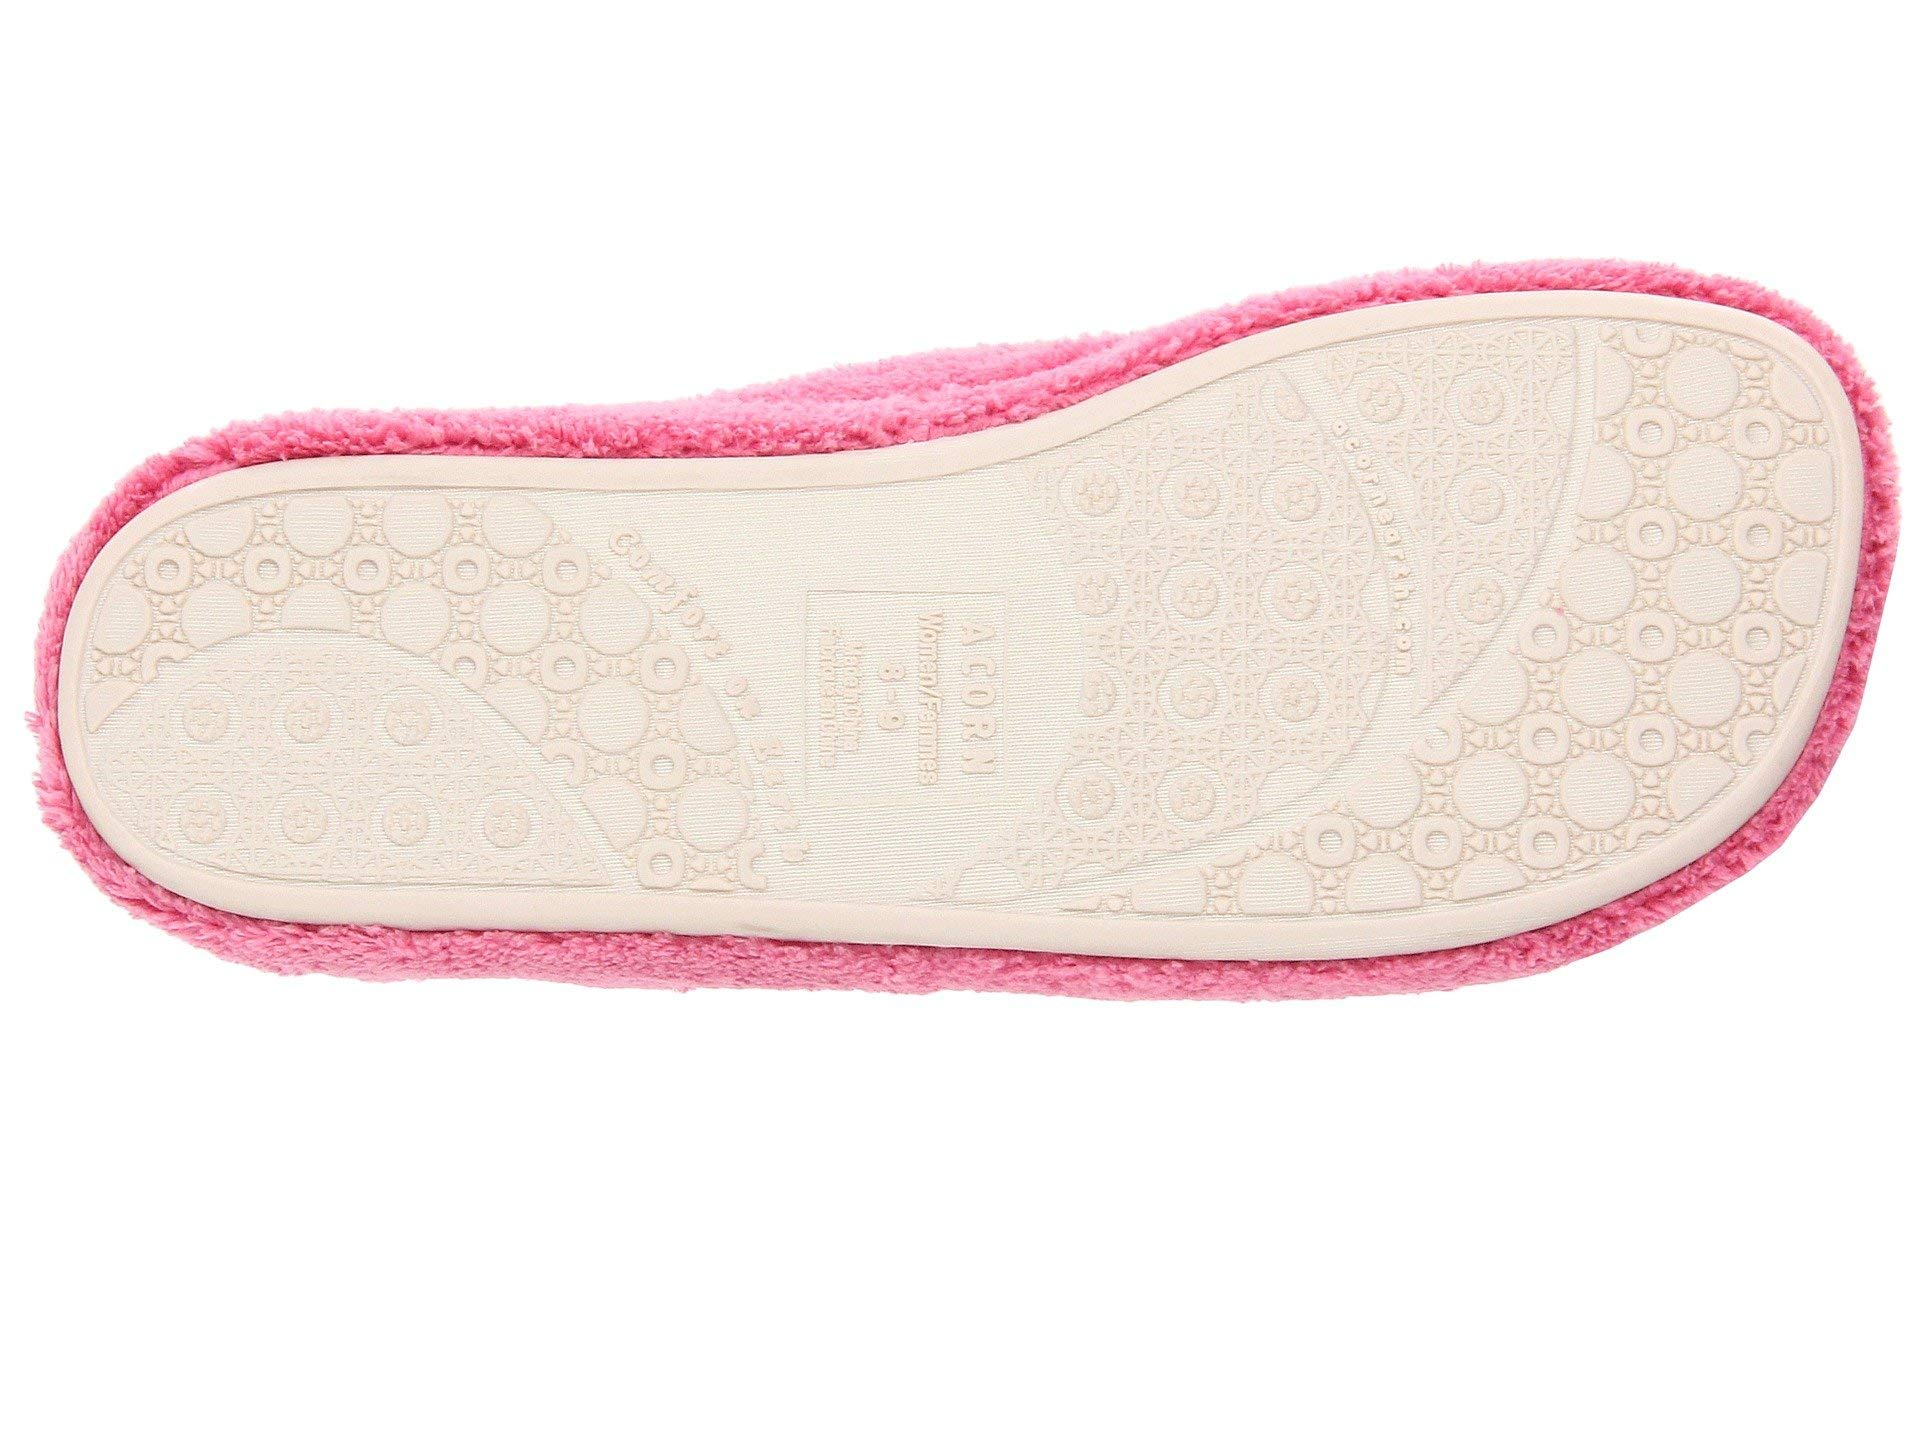circle: (574, 678, 656, 762), (574, 675, 650, 755), (441, 540, 496, 597), (1170, 472, 1220, 520), (556, 560, 578, 579)
text: (807, 607, 871, 773), (999, 620, 1049, 805), (957, 610, 1004, 787), (915, 605, 946, 790)
